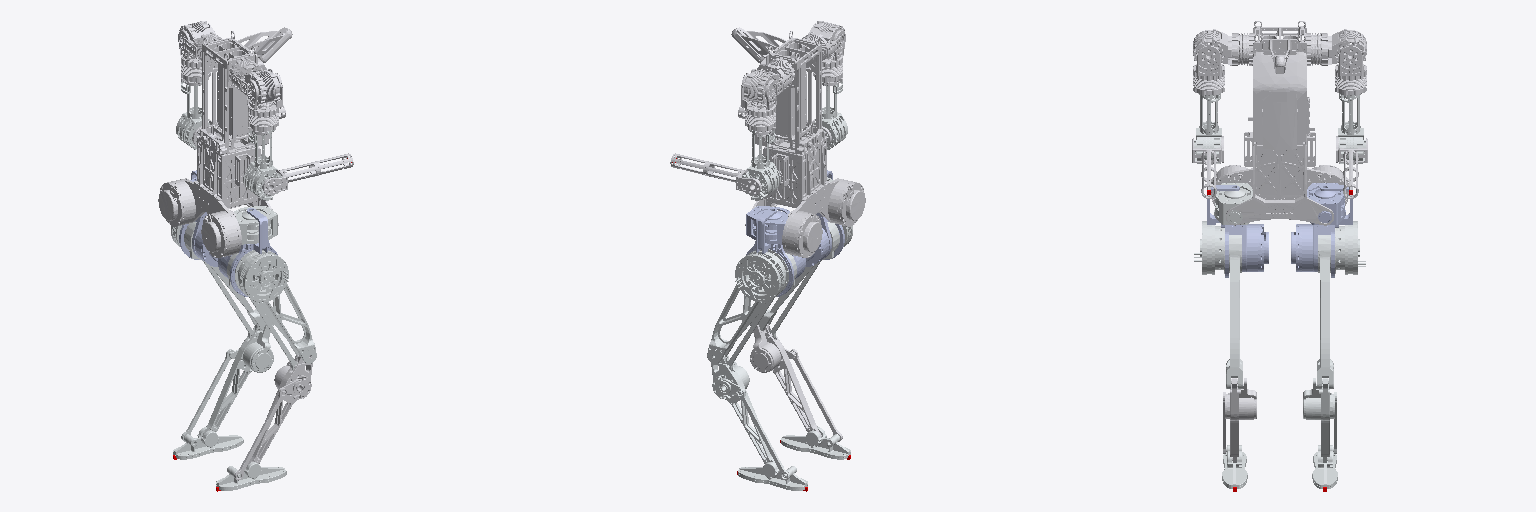
--- Render facts (derived) ---
3 views of the same robot in one strip: view 1: azimuth 30°, elevation 25°; view 2: azimuth 150°, elevation 25°; view 3: azimuth 270°, elevation 25° (orthographic).
Robot: HU_B03_01 — 28 links, 27 joints (18 revolute, 9 fixed); root link base_link; default pose: every joint at zero.
Visible links, largest first — view 1: base_link, hip_pitch_R, knee_L, knee_R, hip_pitch_L, ankle_L, shoulder_yaw_R, shoulder_roll_R, elbow_R, ankle_R, shoulder_pitch_R, hip_yaw_R (+5 smaller); view 2: base_link, hip_pitch_L, knee_R, knee_L, hip_pitch_R, ankle_R, shoulder_yaw_L, shoulder_roll_L, elbow_L, ankle_L, shoulder_pitch_L, hip_yaw_L (+5 smaller); view 3: base_link, hip_pitch_R, hip_pitch_L, hip_yaw_L, hip_yaw_R, knee_L, knee_R, shoulder_roll_L, shoulder_roll_R, shoulder_yaw_L, shoulder_yaw_R, hip_roll_R (+7 smaller).
Boxes of the visible links, x1=… form: base_link: x1=158, y1=27, x2=292, y2=257; hip_pitch_R: x1=227, y1=250, x2=316, y2=369; knee_L: x1=181, y1=324, x2=273, y2=441; knee_R: x1=234, y1=355, x2=312, y2=480; hip_pitch_L: x1=171, y1=222, x2=273, y2=338; ankle_L: x1=173, y1=427, x2=243, y2=459; shoulder_yaw_R: x1=243, y1=130, x2=281, y2=200; shoulder_roll_R: x1=246, y1=79, x2=282, y2=135; elbow_R: x1=262, y1=153, x2=353, y2=195; ankle_R: x1=216, y1=461, x2=286, y2=490; shoulder_pitch_R: x1=232, y1=69, x2=282, y2=104; hip_yaw_R: x1=218, y1=208, x2=277, y2=296; base_link: x1=731, y1=27, x2=865, y2=257; hip_pitch_L: x1=707, y1=249, x2=796, y2=369; knee_R: x1=750, y1=324, x2=842, y2=441; knee_L: x1=711, y1=355, x2=789, y2=480; hip_pitch_R: x1=750, y1=222, x2=852, y2=338; ankle_R: x1=781, y1=427, x2=850, y2=459; shoulder_yaw_L: x1=742, y1=130, x2=780, y2=200; shoulder_roll_L: x1=741, y1=79, x2=777, y2=135; elbow_L: x1=670, y1=153, x2=761, y2=195; ankle_L: x1=738, y1=461, x2=807, y2=490; shoulder_pitch_L: x1=741, y1=69, x2=791, y2=104; hip_yaw_L: x1=746, y1=208, x2=805, y2=296; base_link: x1=1211, y1=21, x2=1348, y2=225; hip_pitch_R: x1=1194, y1=221, x2=1242, y2=388; hip_pitch_L: x1=1317, y1=221, x2=1365, y2=388; hip_yaw_L: x1=1291, y1=185, x2=1352, y2=277; hip_yaw_R: x1=1207, y1=185, x2=1268, y2=277; knee_L: x1=1303, y1=378, x2=1336, y2=462; knee_R: x1=1223, y1=378, x2=1256, y2=462; shoulder_roll_L: x1=1335, y1=46, x2=1366, y2=95; shoulder_roll_R: x1=1193, y1=46, x2=1224, y2=95; shoulder_yaw_L: x1=1338, y1=93, x2=1365, y2=163; shoulder_yaw_R: x1=1194, y1=93, x2=1221, y2=163; hip_roll_R: x1=1214, y1=183, x2=1252, y2=224.
Bounding box of the posed robot: 0.4134 × 0.4586 × 1.29 m (x, y, z).
Meshes: 19 distinct files referenced, 19 mesh visuals loaded (19 binary STL).

robot.urdf — HU_B03_01:
<?xml version="1.0" encoding="utf-8"?>
<!-- This URDF was automatically created by SolidWorks to URDF Exporter! Originally created by
Stephen Brawner ([email redacted]) 
     Commit Version: 1.6.0-4-g7f85cfe  Build Version: 1.6.7995.38578
     For more information, please see http://wiki.ros.org/sw_urdf_exporter -->

<robot name="HU_B03_01">

    <!--    <link name="root_link">-->
    <!--        <inertial>-->
    <!--            <origin xyz="0 0 0" rpy="0 0 0"/>-->
    <!--            <mass value="0.001"/>-->
    <!--            <inertia ixx="1E-10" ixy="0" ixz="0" iyy="1E-10" iyz="0" izz="1E-10"/>-->
    <!--        </inertial>-->
    <!--    </link>-->
    <!--    <joint name="floating_base_joint" type="floating">-->
    <!--        <origin xyz="0.0 0.0 0.0" rpy="0 0 0"/>-->
    <!--        <parent link="root_link"/>-->
    <!--        <child link="base_link"/>-->
    <!--    </joint>-->

    <link name="base_link">
        <!-- <inertial>
          <origin
            xyz="-0.014811 0.0 0.178687"
            rpy="0 0 0" />
          <mass value="14.732" />
          <inertia
            ixx="470802.025851E-06"
            ixy="85.540265E-06"
            ixz="-79050.910839E-06"
            iyy="438489.039949E-06"
            iyz="134.494543E-06"
            izz="121110.125699E-06" />
        </inertial> -->

        <inertial>       <!-- with ID -->
            <origin
                    xyz="-0.016868 0.0 0.198217"
                    rpy="0 0 0"/>
            <mass value="16.207"/>
            <inertia
                    ixx="572460.409385E-06"
                    ixy="85.854370E-06"
                    ixz="-67819.943296E-06"
                    iyy="534400.875589E-06"
                    iyz="110.253134E-06"
                    izz="130292.833139E-06"/>
        </inertial>
        <visual>
            <origin
                    xyz="0 0 0"
                    rpy="0 0 0"/>
            <geometry>
                <mesh
                        filename="../meshes/base_link.STL"/>
            </geometry>
            <material name="">
                <color rgba="0.890196078431372 0.890196078431372 0.913725490196078 1"/>
            </material>
        </visual>
        <collision>
            <origin
                    xyz="0.02 0 0.26"
                    rpy="0 0 0"/>
            <geometry>
                <box size="0.16 0.2 0.46"/>
            </geometry>
        </collision>
    </link>

    <!-- Imu is fixed to the base link -->
    <joint name="limx_imu_joint" type="fixed">
        <origin rpy="0. 0. 0." xyz="0 0 0"/>
        <parent link="base_link"/>
        <child link="limx_imu"/>
    </joint>
    <!-- Imu link -->
    <link name="limx_imu">
        <inertial>
            <mass value="0.001"/>
            <origin rpy="0 0 0" xyz="0 0 0"/>
            <inertia ixx="0.000001" ixy="0" ixz="0" iyy="0.000001" iyz="0" izz="0.000001"/>
        </inertial>
        <visual>
            <origin rpy="0 0 0" xyz="0 0 0"/>
            <geometry>
                <box size="0.015 0.015 0.004"/>
            </geometry>
        </visual>
        <material name="orange">
            <color rgba="255 108 10 255"/>
        </material>
    </link>

    <!-- left arm -->
    <joint name="shoulder_pitch_joint_L" type="revolute">
        <origin xyz="0 0.1216 0.41834" rpy="0 0 0"/>
        <parent link="base_link"/>
        <child link="shoulder_pitch_L"/>
        <axis xyz="0 -1 0"/>
        <limit
                lower="-0.7854"
                upper="2.0944"
                effort="40"
                velocity="10"/>
    </joint>
    <link name="shoulder_pitch_L">
        <inertial>
            <origin
                    xyz="0.0 0.0568 0.0"
                    rpy="0 0 0"/>
            <mass value="0.958"/>
            <inertia
                    ixx="990.388E-06"
                    ixy="-31.054E-06"
                    ixz="3.076E-06"
                    iyy="825.093E-06"
                    iyz="8.451E-06"
                    izz="1043.555E-06"/>
        </inertial>
        <visual>
            <origin
                    xyz="0 0 0"
                    rpy="0 0 0"/>
            <geometry>
                <mesh filename="../meshes/shoulder_pitch_L.STL"/>
            </geometry>
            <material name="">
                <color rgba="0.890196078431372 0.890196078431372 0.913725490196078 1"/>
            </material>
        </visual>
    </link>

    <joint name="shoulder_roll_joint_L" type="revolute">
        <origin xyz="0.0275 0.0636 0" rpy="0 0 0"/>
        <parent link="shoulder_pitch_L"/>
        <child link="shoulder_roll_L"/>
        <axis xyz="-1 0 0"/>
        <limit
                lower="-1.7453"
                upper="0.0873"
                effort="40"
                velocity="10"/>
    </joint>
    <link name="shoulder_roll_L">
        <inertial>
            <origin
                    xyz="-0.025 0.0 -0.075"
                    rpy="0 0 0"/>
            <mass value="0.929"/>
            <inertia
                    ixx="1371.975032E-06"
                    ixy="-1.029439E-06"
                    ixz="-221.939509E-06"
                    iyy="1515.198843E-06"
                    iyz="-0.435620E-06"
                    izz="873.513514E-06"/>
        </inertial>
        <visual>
            <origin
                    xyz="0 0 0"
                    rpy="0 0 0"/>
            <geometry>
                <mesh filename="../meshes/shoulder_roll_L.STL"/>
            </geometry>
            <material name="">
                <color rgba="0.890196078431372 0.890196078431372 0.913725490196078 1"/>
            </material>
        </visual>
    </link>

    <joint name="shoulder_yaw_joint_L" type="revolute">
        <origin xyz="-0.0275 0 -0.112" rpy="0 0 0"/>
        <parent link="shoulder_roll_L"/>
        <child link="shoulder_yaw_L"/>
        <axis xyz="0 0 1"/>
        <limit
                lower="-0.7854"
                upper="1.5708"
                effort="40"
                velocity="10"/>
    </joint>
    <link name="shoulder_yaw_L">
        <inertial>
            <origin
                    xyz="-0.00086 0.0 -0.14858"
                    rpy="0 0 0"/>
            <mass value="1.075"/>
            <inertia
                    ixx="3440.482150E-06"
                    ixy="-2.799463E-06"
                    ixz="-40.730553E-06"
                    iyy="3425.016102E-06"
                    iyz="44.252680E-06"
                    izz="865.590773E-06"/>
        </inertial>
        <visual>
            <origin
                    xyz="0 0 0"
                    rpy="0 0 0"/>
            <geometry>
                <mesh filename="../meshes/shoulder_yaw_L.STL"/>
            </geometry>
            <material name="">
                <color rgba="0.898039215686275 0.917647058823529 0.929411764705882 1"/>
            </material>
        </visual>
        <collision>
            <origin rpy="0 0 0" xyz="0 0 -0.02"/>
            <geometry>
                <cylinder radius="0.04" length="0.16"/>
            </geometry>
        </collision>
    </link>

    <joint name="elbow_joint_L" type="revolute">
        <origin xyz="0 0.0275 -0.1719" rpy="0 0 0"/>
        <parent link="shoulder_yaw_L"/>
        <child link="elbow_L"/>
        <axis xyz="0 1 0"/>
        <limit
                lower="-0.5787"
                upper="1.5708"
                effort="40"
                velocity="10"/>
    </joint>
    <link name="elbow_L">
        <inertial>
            <origin
                    xyz="0.08954 -0.0209 -0.000106"
                    rpy="0 0 0"/>
            <mass value="0.278"/>
            <inertia
                    ixx="217.677566E-06"
                    ixy="164.011059E-06"
                    ixz="-1.889902E-06"
                    iyy="2128.203072E-06"
                    iyz="0.871789E-06"
                    izz="2247.922760E-06"/>
        </inertial>
        <visual>
            <origin
                    xyz="0 0 0"
                    rpy="0 0 0"/>
            <geometry>
                <mesh filename="../meshes/elbow_L.STL"/>
            </geometry>
            <material name="">
                <color rgba="0.890196078431372 0.890196078431372 0.913725490196078 1"/>
            </material>
        </visual>
        <collision>
            <origin
                    xyz="0 0 0"
                    rpy="0 0 0"/>
            <geometry>
                <mesh filename="../meshes/elbow_L.STL"/>
            </geometry>
        </collision>
    </link>

    <!-- left arm contact -->
    <joint name="contact_hand_joint_L" type="fixed" dont_collapse="true">
        <origin xyz="0.274 -0.0275 0.0" rpy="0 0 0"/>
        <parent link="elbow_L"/>
        <child link="contact_hand_L"/>
    </joint>
    <link name="contact_hand_L">
        <inertial>
            <origin xyz=".0 .0 .0" rpy="0 0 0"/>
            <mass value="0.001"/>
            <inertia ixx="0.0000001" ixy="0.0" ixz="0.0" iyy="0.0000001" iyz="0.0" izz="0.0000001"/>
        </inertial>
        <visual>
            <origin
                    xyz="0 0 0"
                    rpy="0 0 0"/>
            <geometry>
                <box size="0.01 0.01 0.01"/>
            </geometry>
            <material name="">
                <color rgba="1 0 0 1"/>
            </material>
        </visual>
    </link>

    <!-- Left Leg -->
    <joint name="hip_roll_joint_L" type="revolute">
        <origin xyz="-0.068 0.118 -0.03116" rpy="0 0 0"/>
        <parent link="base_link"/>
        <child link="hip_roll_L"/>
        <axis xyz="-1 0 0"/>
        <limit
                lower="-0.5236"
                upper="0.5236"
                effort="120"
                velocity="20"/>
    </joint>
    <link name="hip_roll_L">
        <inertial>
            <origin
                    xyz="0.0711 0 0.0032"
                    rpy="0 0 0"/>
            <mass value="1.353"/>
            <inertia
                    ixx="1474.595577E-06"
                    ixy="0.035621E-06"
                    ixz="2.830837E-06"
                    iyy="2445.648862E-06"
                    iyz="-4.252336E-06"
                    izz="2855.882505E-06"/>
        </inertial>
        <visual>
            <origin
                    xyz="0 0 0"
                    rpy="0 0 0"/>
            <geometry>
                <mesh filename="../meshes/hip_roll_L.STL"/>
            </geometry>
            <material name="">
                <color rgba="0.792156862745098 0.819607843137255 0.933333333333333 1"/>
            </material>
        </visual>
        <collision>
            <origin
                    xyz="-0.04 0 0"
                    rpy="0 0 0"/>
            <geometry>
                <box size="0.07 0.1 0.1"/>
            </geometry>
        </collision>
    </link>


    <joint name="hip_yaw_joint_L" type="revolute">
        <origin xyz="0.068 0 -0.0195" rpy="0 0 0"/>
        <parent link="hip_roll_L"/>
        <child link="hip_yaw_L"/>
        <axis xyz="0 0 -1"/>
        <limit
                lower="-0.7854"
                upper="0.7854"
                effort="120"
                velocity="20"/>
    </joint>
    <link name="hip_yaw_L">
        <inertial>
            <origin
                    xyz="0 -0.03166 -0.0877"
                    rpy="0 0 0"/>
            <mass value="1.999"/>
            <inertia
                    ixx="6363.143641E-06"
                    ixy="-2.235936E-06"
                    ixz="-1.625167E-06"
                    iyy="6565.890011E-06"
                    iyz="-1068.019977E-06"
                    izz="4234.229362E-06"/>
        </inertial>
        <visual>
            <origin
                    xyz="0 0 0"
                    rpy="0 0 0"/>
            <geometry>
                <mesh filename="../meshes/hip_yaw_L.STL"/>
            </geometry>
            <material name="">
                <color rgba="0.792156862745098 0.819607843137255 0.933333333333333 1"/>
            </material>
        </visual>
    </link>


    <joint name="hip_pitch_joint_L" type="revolute">
        <origin xyz="0 -0.024 -0.103" rpy="0 0 0"/>
        <parent link="hip_yaw_L"/>
        <child link="hip_pitch_L"/>
        <axis xyz="0 -1 0"/>
        <limit
                lower="-1.5359"
                upper="1.0472"
                effort="120"
                velocity="20"/>
    </joint>
    <link name="hip_pitch_L">
        <inertial>
            <origin
                    xyz="0.0202 0.055 -0.03835"
                    rpy="0 0 0"/>
            <mass value="4.306"/>
            <inertia
                    ixx="39234.883902E-06"
                    ixy="2770.935796E-06"
                    ixz="16398.509235E-06"
                    iyy="49317.347468E-06"
                    iyz="-5316.711707E-06"
                    izz="18132.628369E-06"/>
        </inertial>
        <visual>
            <origin
                    xyz="0 0 0"
                    rpy="0 0 0"/>
            <geometry>
                <mesh filename="../meshes/hip_pitch_L.STL"/>
            </geometry>
            <material name="">
                <color rgba="0.898039215686275 0.917647058823529 0.929411764705882 1"/>
            </material>
        </visual>
        <collision>
            <origin rpy="1.57 0 0" xyz="0 0.02 0"/>
            <geometry>
                <cylinder radius="0.07" length="0.18"/>
            </geometry>
        </collision>
        <collision>
            <origin rpy="1.57 -0.45 0" xyz="0.1 0.025 -0.18"/>
            <geometry>
                <box size="0.1 0.24 0.04"/>
            </geometry>
        </collision>
    </link>


    <joint name="knee_joint_L" type="revolute">
        <origin xyz="0.175 0.024 -0.30311" rpy="0 0 0"/>
        <parent link="hip_pitch_L"/>
        <child link="knee_L"/>
        <axis xyz="0 -1 0"/>
        <limit
                lower="-1.0472"
                upper="0.6981"
                effort="180"
                velocity="20"/>
    </joint>
    <link name="knee_L">
        <inertial>
            <origin
                    xyz="-0.06018 -0.00312 -0.1125"
                    rpy="0 0 0"/>
            <mass value="1.694"/>
            <inertia
                    ixx="13325.678709E-06"
                    ixy="520.920143E-06"
                    ixz="-7926.961445E-06"
                    iyy="18655.420898E-06"
                    iyz="478.732558E-06"
                    izz="6610.199995E-06"/>
        </inertial>
        <visual>
            <origin
                    xyz="0 0 0"
                    rpy="0 0 0"/>
            <geometry>
                <mesh filename="../meshes/knee_L.STL"/>
            </geometry>
            <material name="">
                <color rgba="0.898039215686275 0.917647058823529 0.929411764705882 1"/>
            </material>
        </visual>
        <collision>
            <origin rpy="1.57 0.6 0" xyz="-0.12 -0.0 -0.18"/>
            <geometry>
                <box size="0.08 0.24 0.04"/>
            </geometry>
        </collision>
    </link>


    <joint name="ankle_joint_L" type="revolute">
        <origin xyz="-0.175 0 -0.30311" rpy="0 0 0"/>
        <parent link="knee_L"/>
        <child link="ankle_L"/>
        <axis xyz="0 -1 0"/>
        <limit
                lower="-1.2566"
                upper="0.6109"
                effort="40"
                velocity="10"/>
    </joint>
    <link name="ankle_L">
        <inertial>
            <origin
                    xyz="-0.01054 0.001 -0.021"
                    rpy="0 0 0"/>
            <mass value="0.404"/>
            <inertia
                    ixx="164.737831E-06"
                    ixy="15.856723E-06"
                    ixz="68.793585E-06"
                    iyy="1149.965027E-06"
                    iyz="-8.127539E-06"
                    izz="1159.669589E-06"/>
        </inertial>
        <visual>
            <origin
                    xyz="0 0 0"
                    rpy="0 0 0"/>
            <geometry>
                <mesh filename="../meshes/ankle_L.STL"/>
            </geometry>
            <material name="">
                <color rgba="0.898039215686275 0.917647058823529 0.929411764705882 1"/>
            </material>
        </visual>
        <collision>
            <origin rpy="0 0 0" xyz="0.0 0.0 -0.029"/>
            <geometry>
                <box size="0.21 0.06 0.02"/>
            </geometry>
        </collision>
        <!-- <collision>
          <origin
            xyz="0 0 0"
            rpy="0 0 0" />
          <geometry>
            <mesh filename="../meshes/ankle_L.STL" />
          </geometry>
        </collision> -->
    </link>

    <!-- Left Foot Contact -->
    <joint name="contact_foot_heel_joint_L" type="fixed">
        <origin xyz="-0.105 0 -0.039" rpy="0 0 0"/>
        <parent link="ankle_L"/>
        <child link="contact_foot_heel_L"/>
    </joint>
    <link name="contact_foot_heel_L">
        <inertial>
            <origin xyz=".0 .0 .0" rpy="0 0 0"/>
            <mass value="0.001"/>
            <inertia ixx="0.0000001" ixy="0.0" ixz="0.0" iyy="0.0000001" iyz="0.0" izz="0.0000001"/>
        </inertial>
        <visual>
            <origin xyz="0 0 0" rpy="0 0 0"/>
            <geometry>
                <box size="0.01 0.01 0.01"/>
            </geometry>
            <material name="">
                <color rgba="1 0 0 1"/>
            </material>
        </visual>
    </link>

    <joint name="contact_foot_tip_joint_L" type="fixed">
        <origin xyz="0.105 0 -0.039" rpy="0 0 0"/>
        <parent link="ankle_L"/>
        <child link="contact_foot_tip_L"/>
    </joint>
    <link name="contact_foot_tip_L">
        <inertial>
            <origin xyz=".0 .0 .0" rpy="0 0 0"/>
            <mass value="0.001"/>
            <inertia ixx="0.0000001" ixy="0.0" ixz="0.0" iyy="0.0000001" iyz="0.0" izz="0.0000001"/>
        </inertial>
        <visual>
            <origin xyz="0 0 0" rpy="0 0 0"/>
            <geometry>
                <box size="0.01 0.01 0.01"/>
            </geometry>
            <material name="">
                <color rgba="1 0 0 1"/>
            </material>
        </visual>
    </link>

    <joint name="contact_foot_center_joint_L" type="fixed">
        <origin xyz="0 0 -0.039" rpy="0 0 0"/>
        <parent link="ankle_L"/>
        <child link="contact_foot_center_L"/>
    </joint>
    <link name="contact_foot_center_L">
        <inertial>
            <origin xyz=".0 .0 .0" rpy="0 0 0"/>
            <mass value="0.001"/>
            <inertia ixx="0.0000001" ixy="0.0" ixz="0.0" iyy="0.0000001" iyz="0.0" izz="0.0000001"/>
        </inertial>
        <visual>
            <origin xyz="0 0 0" rpy="0 0 0"/>
            <geometry>
                <box size="0.01 0.01 0.01"/>
            </geometry>
            <material name="">
                <color rgba="1 0 0 1"/>
            </material>
        </visual>
    </link>

    <!-- right arm -->
    <joint name="shoulder_pitch_joint_R" type="revolute">
        <origin xyz="0 -0.1216 0.41834" rpy="0 0 0"/>
        <parent link="base_link"/>
        <child link="shoulder_pitch_R"/>
        <axis xyz="0 -1 0"/>
        <limit
                lower="-0.7854"
                upper="2.0944"
                effort="40"
                velocity="10"/>
    </joint>
    <link name="shoulder_pitch_R">
        <inertial>
            <origin
                    xyz="0.0 -0.0568 0.0"
                    rpy="0 0 0"/>
            <mass value="0.958"/>
            <inertia
                    ixx="990.388E-06"
                    ixy="31.054E-06"
                    ixz="3.076E-06"
                    iyy="825.093E-06"
                    iyz="-8.451E-06"
                    izz="1043.555E-06"/>
        </inertial>
        <visual>
            <origin
                    xyz="0 0 0"
                    rpy="0 0 0"/>
            <geometry>
                <mesh filename="../meshes/shoulder_pitch_R.STL"/>
            </geometry>
            <material name="">
                <color rgba="0.890196078431372 0.890196078431372 0.913725490196078 1"/>
            </material>
        </visual>
    </link>


    <joint name="shoulder_roll_joint_R" type="revolute">
        <origin xyz="0.0275 -0.0636 0" rpy="0 0 0"/>
        <parent link="shoulder_pitch_R"/>
        <child link="shoulder_roll_R"/>
        <axis xyz="-1 0 0"/>
        <limit
                lower="-0.0873"
                upper="1.7453"
                effort="40"
                velocity="10"/>
    </joint>
    <link name="shoulder_roll_R">
        <inertial>
            <origin
                    xyz="-0.025 0.0 -0.075"
                    rpy="0 0 0"/>
            <mass value="0.929"/>
            <inertia
                    ixx="1371.975032E-06"
                    ixy="1.029439E-06"
                    ixz="-221.939509E-06"
                    iyy="1515.198843E-06"
                    iyz="0.435620E-06"
                    izz="873.513514E-06"/>
        </inertial>
        <visual>
            <origin
                    xyz="0 0 0"
                    rpy="0 0 0"/>
            <geometry>
                <mesh filename="../meshes/shoulder_roll_R.STL"/>
            </geometry>
            <material name="">
                <color rgba="0.890196078431372 0.890196078431372 0.913725490196078 1"/>
            </material>
        </visual>
    </link>

    <joint name="shoulder_yaw_joint_R" type="revolute">
        <origin xyz="-0.0275 0 -0.112" rpy="0 0 0"/>
        <parent link="shoulder_roll_R"/>
        <child link="shoulder_yaw_R"/>
        <axis xyz="0 0 1"/>
        <limit
                lower="-1.5708"
                upper="0.7854"
                effort="40"
                velocity="10"/>
    </joint>
    <link name="shoulder_yaw_R">
        <inertial>
            <origin
                    xyz="-0.00086 0.0 -0.14858"
                    rpy="0 0 0"/>
            <mass value="1.075"/>
            <inertia
                    ixx="3440.482150E-06"
                    ixy="2.799463E-06"
                    ixz="-40.730553E-06"
                    iyy="3425.016102E-06"
                    iyz="-44.252680E-06"
                    izz="865.590773E-06"/>
        </inertial>
        <visual>
            <origin
                    xyz="0 0 0"
                    rpy="0 0 0"/>
            <geometry>
                <mesh filename="../meshes/shoulder_yaw_R.STL"/>
            </geometry>
            <material name="">
                <color rgba="0.898039215686275 0.917647058823529 0.929411764705882 1"/>
            </material>
        </visual>
        <collision>
            <origin rpy="0 0 0" xyz="0 0 -0.02"/>
            <geometry>
                <cylinder radius="0.04" length="0.16"/>
            </geometry>
        </collision>
    </link>


    <joint name="elbow_joint_R" type="revolute">
        <origin xyz="0 -0.0275 -0.1719" rpy="0 0 0"/>
        <parent link="shoulder_yaw_R"/>
        <child link="elbow_R"/>
        <axis xyz="0 -1 0"/>
        <limit
                lower="-1.5708"
                upper="0.5787"
                effort="40"
                velocity="10"/>
    </joint>
    <link name="elbow_R">
        <inertial>
            <origin
                    xyz="0.08954 0.0209 -0.000106"
                    rpy="0 0 0"/>
            <mass value="0.278"/>
            <inertia
                    ixx="217.677566E-06"
                    ixy="-164.011059E-06"
                    ixz="-1.889902E-06"
                    iyy="2128.203072E-06"
                    iyz="-0.871789E-06"
                    izz="2247.922760E-06"/>
        </inertial>
        <visual>
            <origin
                    xyz="0 0 0"
                    rpy="0 0 0"/>
            <geometry>
                <mesh filename="../meshes/elbow_R.STL"/>
            </geometry>
            <material name="">
                <color rgba="0.890196078431372 0.890196078431372 0.913725490196078 1"/>
            </material>
        </visual>
        <collision>
            <origin
                    xyz="0 0 0"
                    rpy="0 0 0"/>
            <geometry>
                <mesh filename="../meshes/elbow_R.STL"/>
            </geometry>
        </collision>
    </link>


    <!-- Right hand Contact -->
    <joint name="contact_hand_joint_R" type="fixed" dont_collapse="true">
        <origin xyz="0.274 0.0275 0.0" rpy="0 0 0"/>
        <parent link="elbow_R"/>
        <child link="contact_hand_R"/>
    </joint>
    <link name="contact_hand_R">
        <inertial>
            <origin xyz=".0 .0 .0" rpy="0 0 0"/>
            <mass value="0.001"/>
            <inertia ixx="0.0000001" ixy="0.0" ixz="0.0" iyy="0.0000001" iyz="0.0" izz="0.0000001"/>
        </inertial>
        <visual>
            <origin xyz="0 0 0" rpy="0 0 0"/>
            <geometry>
                <box size="0.01 0.01 0.01"/>
            </geometry>
            <material name="">
                <color rgba="1 0 0 1"/>
            </material>
        </visual>
    </link>

    <!-- Right Leg -->
    <joint name="hip_roll_joint_R" type="revolute">
        <origin xyz="-0.068 -0.118 -0.03116" rpy="0 0 0"/>
        <parent link="base_link"/>
        <child link="hip_roll_R"/>
        <axis xyz="-1 0 0"/>
        <limit
                lower="-0.5236"
                upper="0.5236"
                effort="120"
                velocity="20"/>
    </joint>
    <link name="hip_roll_R">
        <inertial>
            <origin
                    xyz="0.0711 0 0.0032"
                    rpy="0 0 0"/>
            <mass value="1.353"/>
            <inertia
                    ixx="1474.595577E-06"
                    ixy="-0.035621E-06"
                    ixz="2.830837E-06"
                    iyy="2445.648862E-06"
                    iyz="4.252336E-06"
                    izz="2855.882505E-06"/>
        </inertial>
        <visual>
            <origin
                    xyz="0 0 0"
                    rpy="0 0 0"/>
            <geometry>
                <mesh filename="../meshes/hip_roll_R.STL"/>
            </geometry>
            <material name="">
                <color rgba="0.898039215686275 0.917647058823529 0.929411764705882 1"/>
            </material>
        </visual>
        <collision>
            <origin
                    xyz="-0.04 0 0"
                    rpy="0 0 0"/>
            <geometry>
                <box size="0.07 0.1 0.1"/>
            </geometry>
        </collision>
    </link>

    <joint name="hip_yaw_joint_R" type="revolute">
        <origin xyz="0.068 0 -0.0195" rpy="0 0 0"/>
        <parent link="hip_roll_R"/>
        <child link="hip_yaw_R"/>
        <axis xyz="0 0 -1"/>
        <limit
                lower="-0.7854"
                upper="0.7854"
                effort="120"
                velocity="20"/>
    </joint>
    <link name="hip_yaw_R">
        <inertial>
            <origin
                    xyz="0 0.03166 -0.0877"
                    rpy="0 0 0"/>
            <mass value="1.999"/>
            <inertia
                    ixx="6363.143641E-06"
                    ixy="2.235936E-06"
                    ixz="-1.625167E-06"
                    iyy="6565.890011E-06"
                    iyz="1068.019977E-06"
                    izz="4234.229362E-06"/>
        </inertial>
        <visual>
            <origin
                    xyz="0 0 0"
                    rpy="0 0 0"/>
            <geometry>
                <mesh filename="../meshes/hip_yaw_R.STL"/>
            </geometry>
            <material name="">
                <color rgba="0.792156862745098 0.819607843137255 0.933333333333333 1"/>
            </material>
        </visual>
    </link>


    <joint name="hip_pitch_joint_R" type="revolute">
        <origin xyz="0 0.024 -0.103" rpy="0 0 0"/>
        <parent link="hip_yaw_R"/>
        <child link="hip_pitch_R"/>
        <axis xyz="0 1 0"/>
        <limit
                lower="-1.0472"
                upper="1.5359"
                effort="120"
                velocity="20"/>
    </joint>
    <link name="hip_pitch_R">
        <inertial>
            <origin
                    xyz="0.0202 -0.055 -0.03835"
                    rpy="0 0 0"/>
            <mass value="4.306"/>
            <inertia
                    ixx="39234.883902E-06"
                    ixy="-2770.935796E-06"
                    ixz="16398.509235E-06"
                    iyy="49317.347468E-06"
                    iyz="5316.711707E-06"
                    izz="18132.628369E-06"/>
        </inertial>
        <visual>
            <origin
                    xyz="0 0 0"
                    rpy="0 0 0"/>
            <geometry>
                <mesh filename="../meshes/hip_pitch_R.STL"/>
            </geometry>
            <material name="">
                <color rgba="0.898039215686275 0.917647058823529 0.929411764705882 1"/>
            </material>
        </visual>
        <collision>
            <origin rpy="1.57 0 0" xyz="0 -0.02 0"/>
            <geometry>
                <cylinder radius="0.07" length="0.18"/>
            </geometry>
        </collision>
        <collision>
            <origin rpy="1.57 -0.45 0" xyz="0.1 -0.025 -0.18"/>
            <geometry>
                <box size="0.1 0.24 0.04"/>
            </geometry>
        </collision>
    </link>


    <joint name="knee_joint_R" type="revolute">
        <origin xyz="0.175 -0.024 -0.30311" rpy="0 0 0"/>
        <parent link="hip_pitch_R"/>
        <child link="knee_R"/>
        <axis xyz="0 1 0"/>
        <limit
                lower="-0.6981"
                upper="1.0472"
                effort="180"
                velocity="10"/>
    </joint>
    <link name="knee_R">
        <inertial>
            <origin
                    xyz="-0.06018 0.00312 -0.1125"
                    rpy="0 0 0"/>
            <mass value="1.694"/>
            <inertia
                    ixx="13325.678709E-06"
                    ixy="-520.920143E-06"
                    ixz="-7926.961445E-06"
                    iyy="18655.420898E-06"
                    iyz="-478.732558E-06"
                    izz="6610.199995E-06"/>
        </inertial>
        <visual>
            <origin
                    xyz="0 0 0"
                    rpy="0 0 0"/>
            <geometry>
                <mesh filename="../meshes/knee_R.STL"/>
            </geometry>
            <material name="">
                <color rgba="0.890196078431372 0.890196078431372 0.913725490196078 1"/>
            </material>
        </visual>
        <collision>
            <origin rpy="1.57 0.6 0" xyz="-0.12 -0.0 -0.18"/>
            <geometry>
                <box size="0.08 0.24 0.04"/>
            </geometry>
        </collision>
    </link>

    <joint name="ankle_joint_R" type="revolute">
        <origin xyz="-0.175 0 -0.30311" rpy="0 0 0"/>
        <parent link="knee_R"/>
        <child link="ankle_R"/>
        <axis xyz="0 1 0"/>
        <limit
                lower="-0.6109"
                upper="1.2566"
                effort="40"
                velocity="10"/>
    </joint>
    <link name="ankle_R">
        <inertial>
            <origin
                    xyz="-0.01054 -0.001 -0.021"
                    rpy="0 0 0"/>
            <mass value="0.404"/>
            <inertia
                    ixx="164.737831E-06"
                    ixy="-15.856723E-06"
                    ixz="68.793585E-06"
                    iyy="1149.965027E-06"
                    iyz="8.127539E-06"
                    izz="1159.669589E-06"/>
        </inertial>
        <visual>
            <origin
                    xyz="0 0 0"
                    rpy="0 0 0"/>
            <geometry>
                <mesh filename="../meshes/ankle_R.STL"/>
            </geometry>
            <material name="">
                <color rgba="0.898039215686275 0.917647058823529 0.929411764705882 1"/>
            </material>
        </visual>
        <collision>
            <origin rpy="0 0 0" xyz="0 0 -0.029"/>
            <geometry>
                <box size="0.21 0.06 0.02"/>
            </geometry>
        </collision>
        <!-- <collision>
          <origin
            xyz="0 0 0"
            rpy="0 0 0" />
          <geometry>
            <mesh
              filename="../meshes/ankle_R.STL" />
          </geometry>
        </collision> -->
    </link>

    <!-- Right Foot Contact -->
    <joint name="contact_foot_heel_joint_R" type="fixed">
        <origin xyz="-0.105 0 -0.039" rpy="0 0 0"/>
        <parent link="ankle_R"/>
        <child link="contact_foot_heel_R"/>
    </joint>
    <link name="contact_foot_heel_R">
        <inertial>
            <origin xyz=".0 .0 .0" rpy="0 0 0"/>
            <mass value="0.001"/>
            <inertia ixx="0.0000001" ixy="0.0" ixz="0.0" iyy="0.0000001" iyz="0.0" izz="0.0000001"/>
        </inertial>
        <visual>
            <origin xyz="0 0 0" rpy="0 0 0"/>
            <geometry>
                <box size="0.01 0.01 0.01"/>
            </geometry>
            <material name="red">
                <color rgba="1 0 0 1"/>
            </material>
        </visual>
    </link>

    <joint name="contact_foot_tip_joint_R" type="fixed">
        <origin xyz="0.105 0 -0.039" rpy="0 0 0"/>
        <parent link="ankle_R"/>
        <child link="contact_foot_tip_R"/>
    </joint>
    <link name="contact_foot_tip_R">
        <inertial>
            <origin xyz=".0 .0 .0" rpy="0 0 0"/>
            <mass value="0.001"/>
            <inertia ixx="0.0000001" ixy="0.0" ixz="0.0" iyy="0.0000001" iyz="0.0" izz="0.0000001"/>
        </inertial>
        <visual>
            <origin xyz="0 0 0" rpy="0 0 0"/>
            <geometry>
                <box size="0.01 0.01 0.01"/>
            </geometry>
            <material name="red">
                <color rgba="1 0 0 1"/>
            </material>
        </visual>
    </link>

    <joint name="contact_foot_center_joint_R" type="fixed">
        <origin xyz="0 0 -0.039" rpy="0 0 0"/>
        <parent link="ankle_R"/>
        <child link="contact_foot_center_R"/>
    </joint>
    <link name="contact_foot_center_R">
        <inertial>
            <origin xyz=".0 .0 .0" rpy="0 0 0"/>
            <mass value="0.001"/>
            <inertia ixx="0.0000001" ixy="0.0" ixz="0.0" iyy="0.0000001" iyz="0.0" izz="0.0000001"/>
        </inertial>
        <visual>
            <origin xyz="0 0 0" rpy="0 0 0"/>
            <geometry>
                <box size="0.01 0.01 0.01"/>
            </geometry>
            <material name="red">
                <color rgba="1 0 0 1"/>
            </material>
        </visual>
    </link>
</robot>
